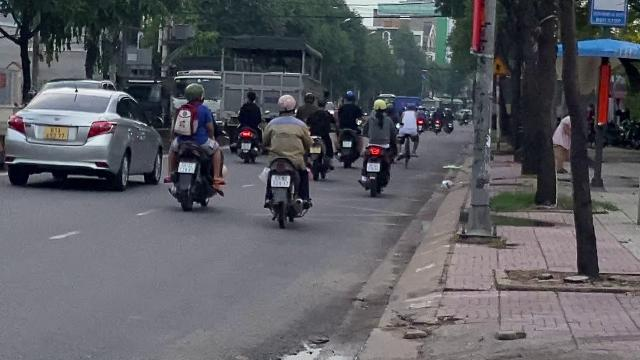helmet: (182, 82, 204, 102), (276, 94, 296, 114)
licenseplate: (272, 176, 290, 186), (178, 162, 194, 172)
motorcyclist: (164, 82, 226, 210), (258, 93, 314, 226)
